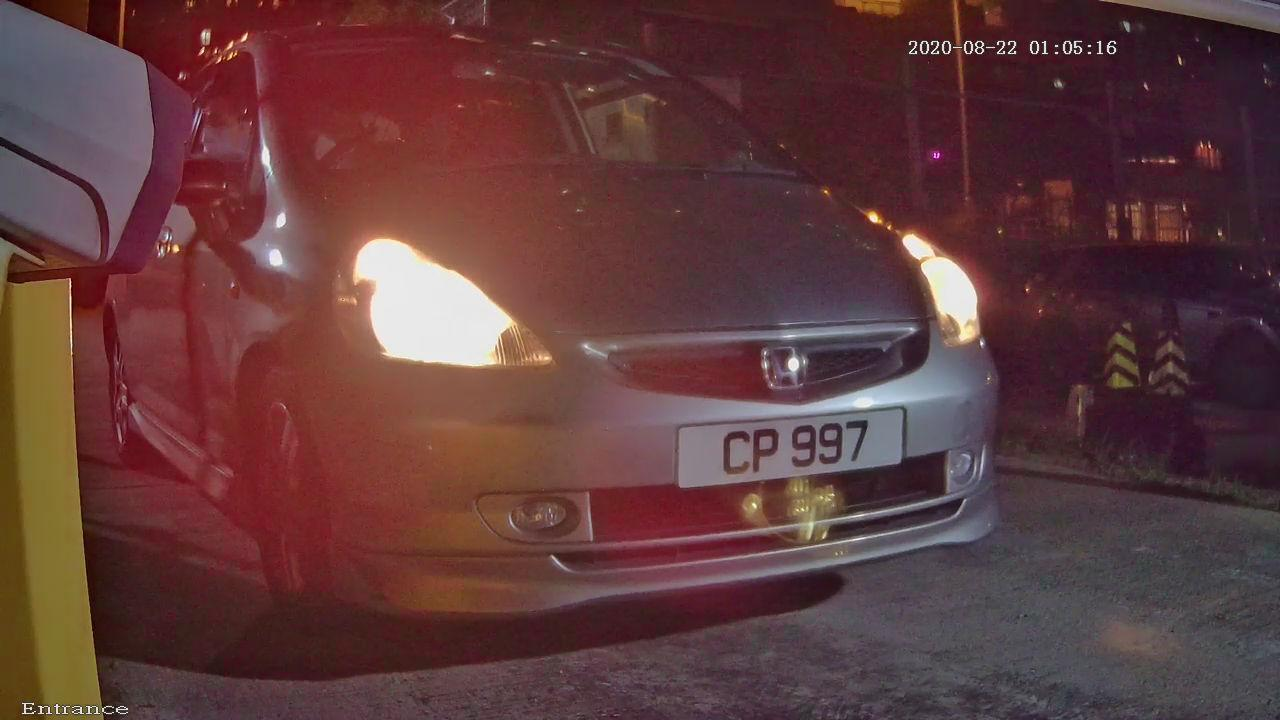Car: (58, 39, 1109, 637)
License Plate: (642, 387, 926, 518)
